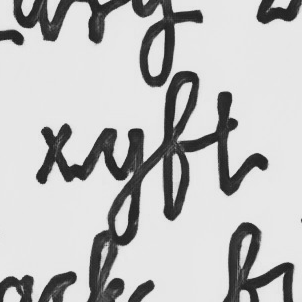f: (159, 68, 202, 225)
t: (211, 89, 256, 197)
x: (34, 119, 75, 186)
y: (97, 124, 148, 247)
